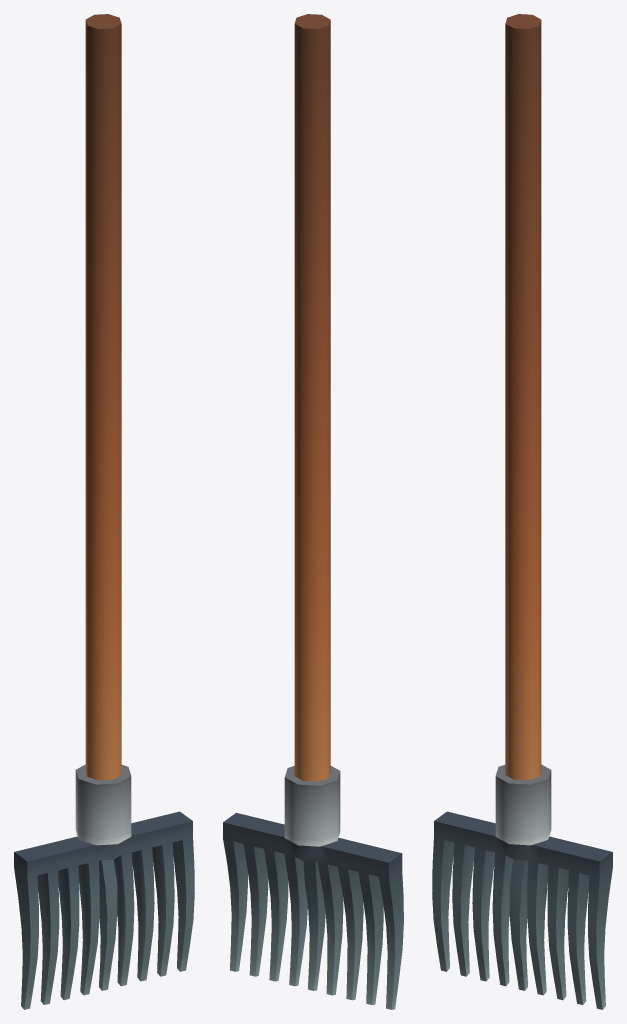
Rendered from Harrow2.fbx.
3 renders of one model, left to right at view 1: azimuth 30°, elevation 25°; view 2: azimuth 150°, elevation 25°; view 3: azimuth 330°, elevation 25°, orthographic.
Visible parts, largest first — view 1: Harrow2; view 2: Harrow2; view 3: Harrow2.
Boxes of the visible parts, x1,y1,x2,y2 form: Harrow2: (14,14,194,1009); Harrow2: (223,14,403,1009); Harrow2: (432,14,612,1009).
Size of the model in its own units: 0.1709 by 0.953 by 0.0514.
